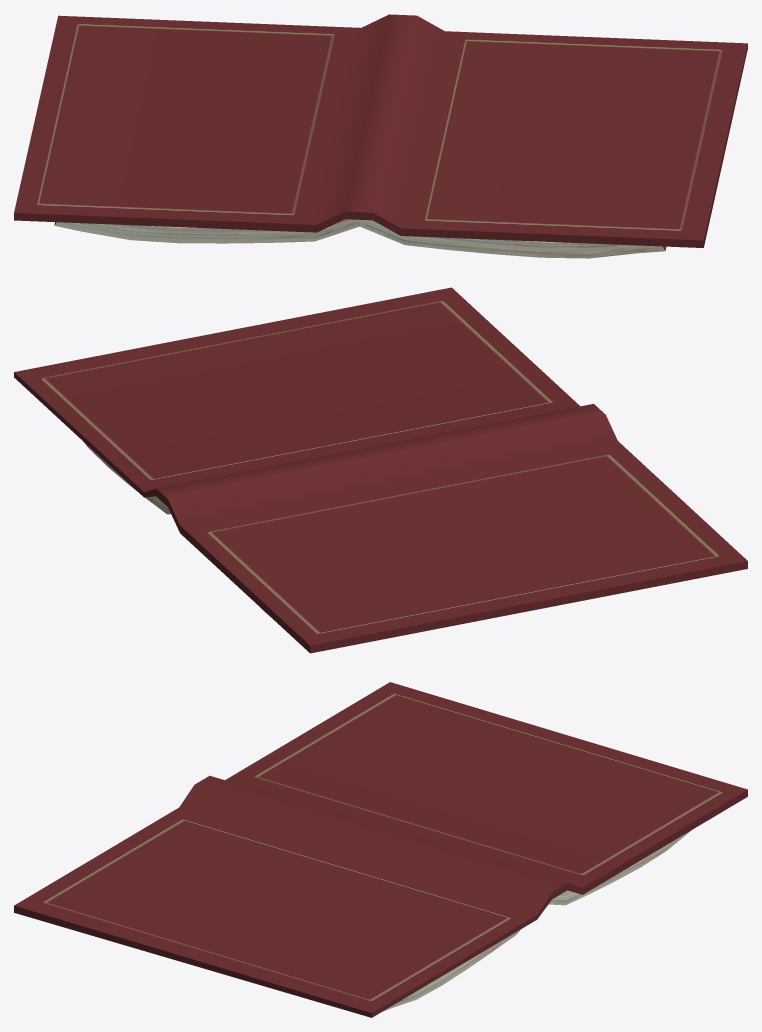
Rendered from AP_BookOpen_CS.fbx.
The picture shows the model from 3 angles, top to bottom: view 1: azimuth 30°, elevation 25°; view 2: azimuth 150°, elevation 25°; view 3: azimuth 270°, elevation 25°; orthographic projection. The views are drawn at different scales.
Visible parts, largest first — view 1: polySurface6; view 2: polySurface6; view 3: polySurface6.
Part boxes in pixels (left/top/right/bottom): polySurface6: left=14, top=14, right=747, bottom=258; polySurface6: left=14, top=287, right=747, bottom=653; polySurface6: left=14, top=682, right=747, bottom=1017.
Bounding box in the file's own units: 6.62 × 0.4208 × 6.2.
Materials: 1 (1 with a texture image).
